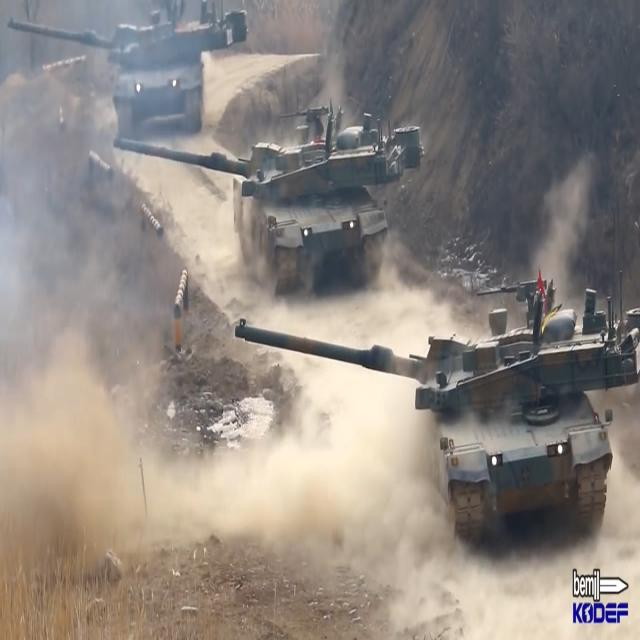korea tank: (233, 270, 640, 553)
